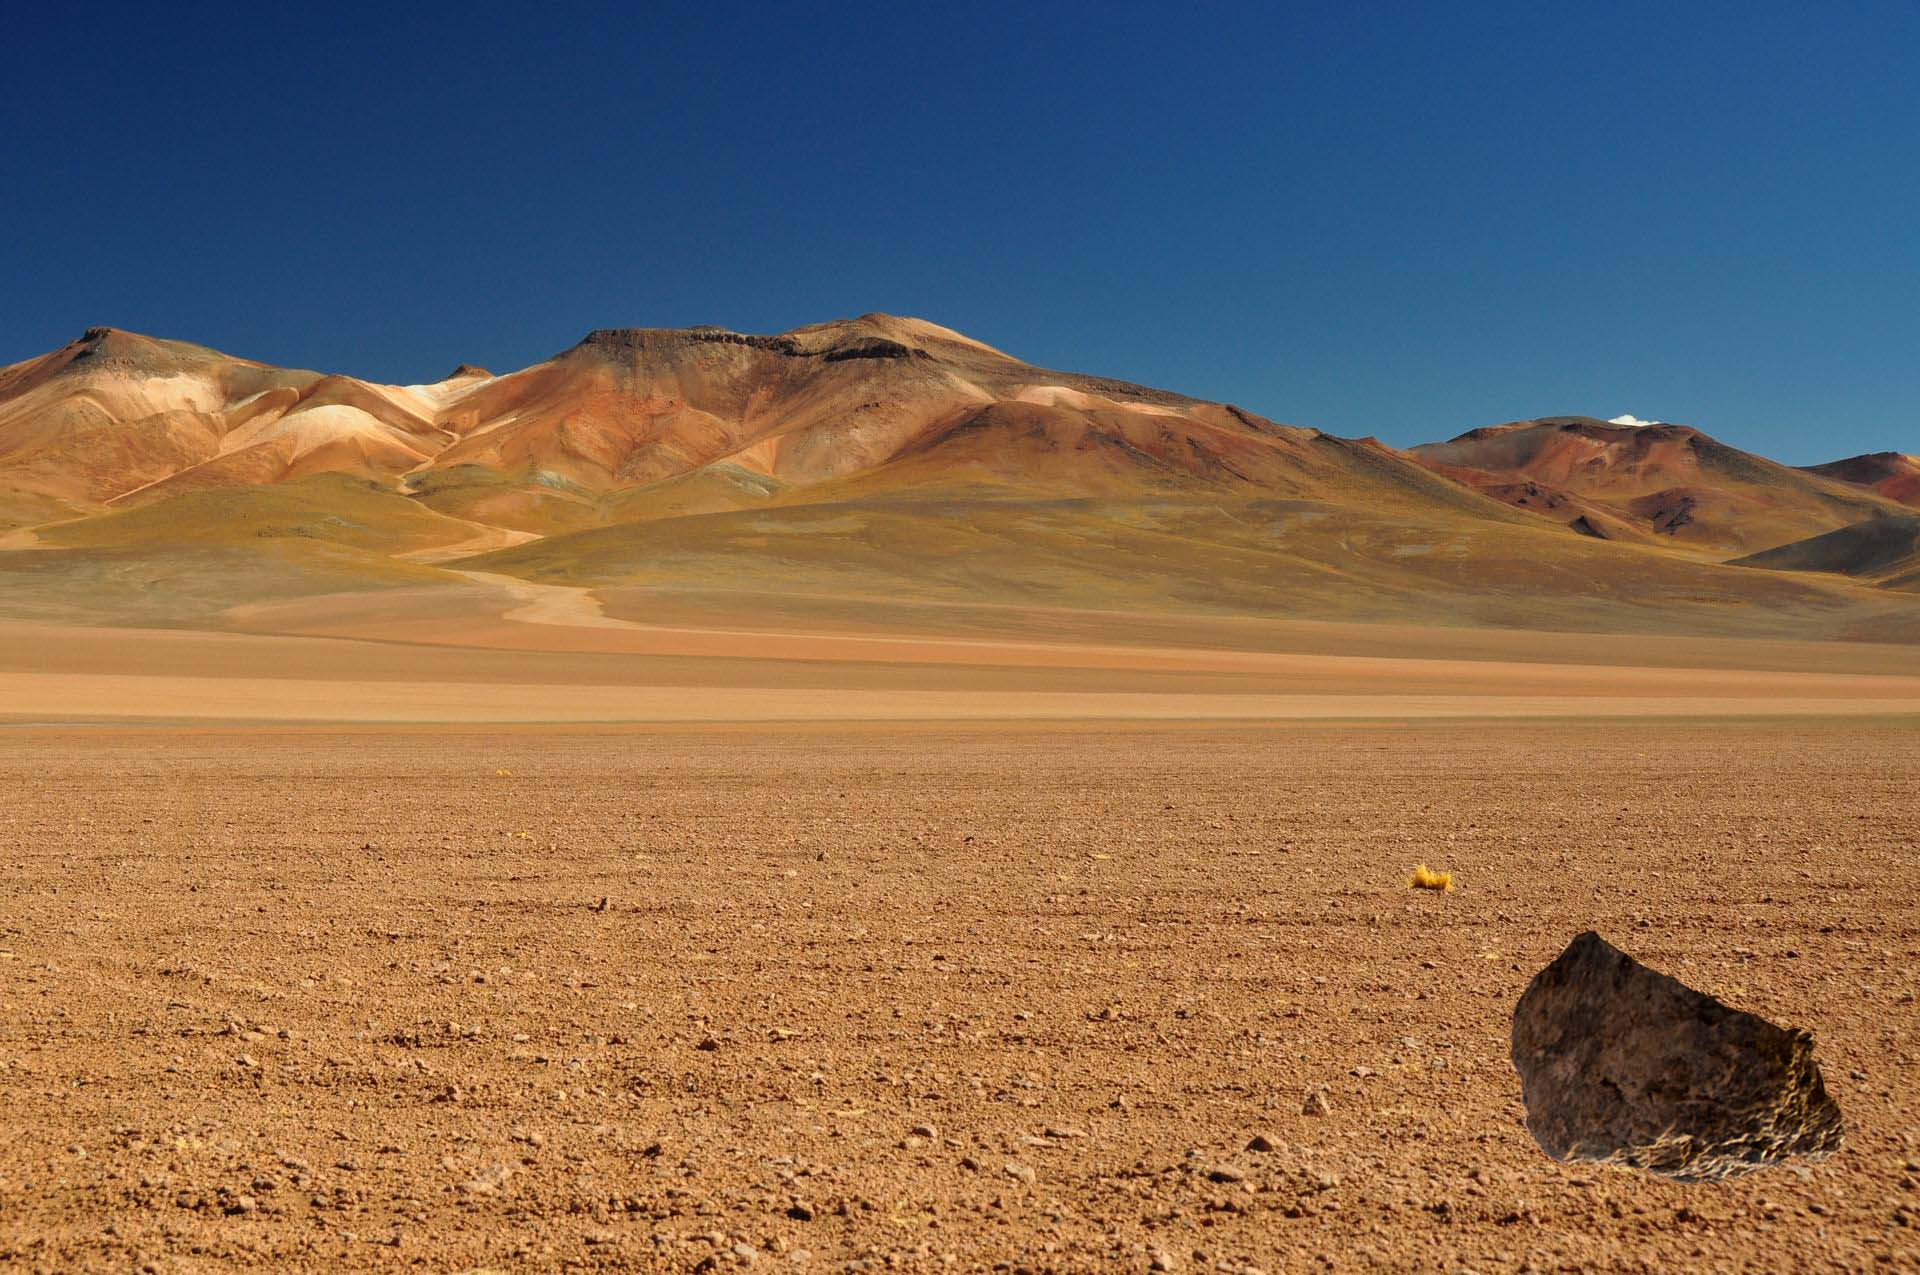Rocks: (1490, 916, 1867, 1183)
